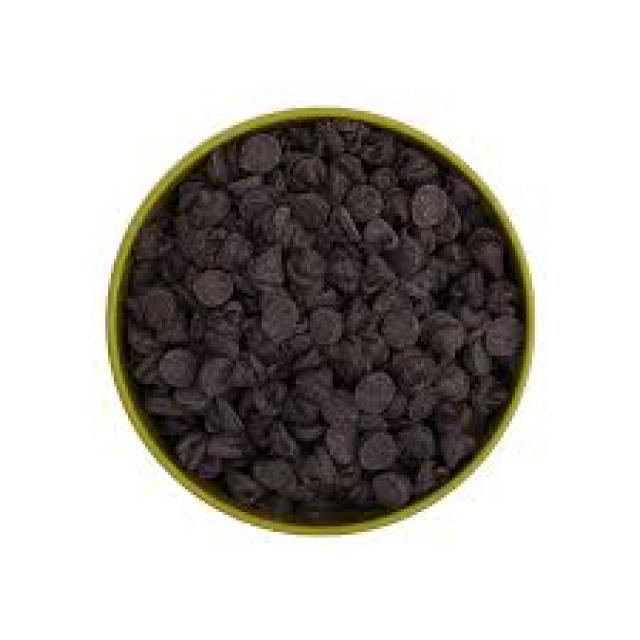Chocolate: (123, 113, 528, 532)
